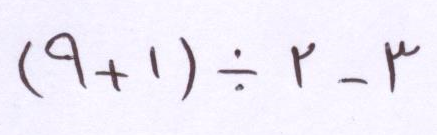character: (44, 32, 86, 88), (384, 40, 419, 94), (217, 48, 256, 91), (18, 41, 42, 98), (95, 59, 127, 93), (291, 42, 315, 86), (179, 36, 194, 98), (336, 77, 373, 100), (149, 46, 160, 79)
